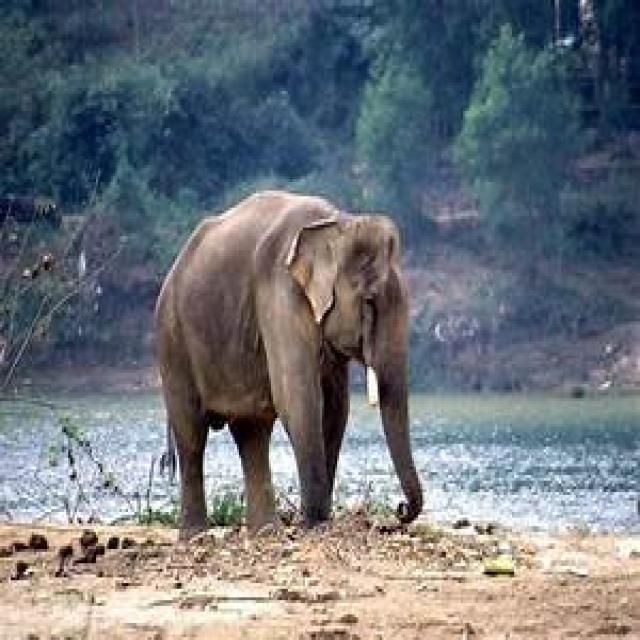elephant: (154, 191, 425, 543)
